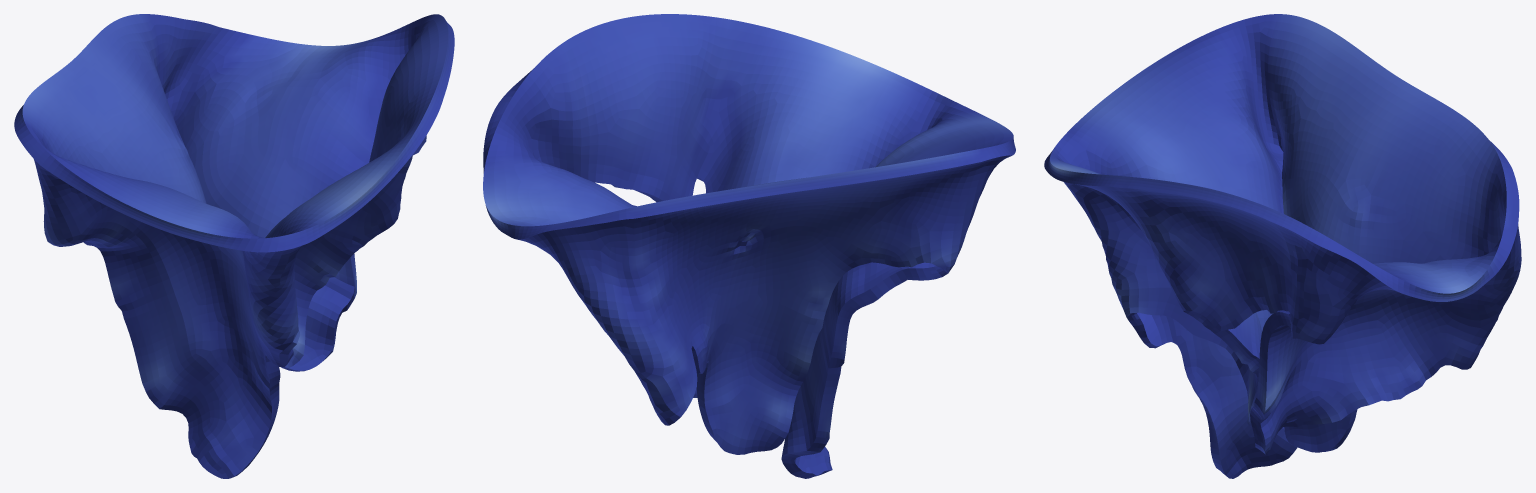
3 renders of one model, left to right at view 1: azimuth 30°, elevation 25°; view 2: azimuth 150°, elevation 25°; view 3: azimuth 270°, elevation 25°, orthographic. The views are drawn at different scales.
Parts seen in each view (by area): view 1: OCS14_maxS_2; view 2: OCS14_maxS_2; view 3: OCS14_maxS_2.
Part boxes in pixels (box(x1,y1,x2,y2)): OCS14_maxS_2: box(14, 14, 454, 478); OCS14_maxS_2: box(483, 14, 1015, 478); OCS14_maxS_2: box(1044, 14, 1521, 478).
Bounding box in the file's own units: 1.44 × 1.19 × 1.33.
